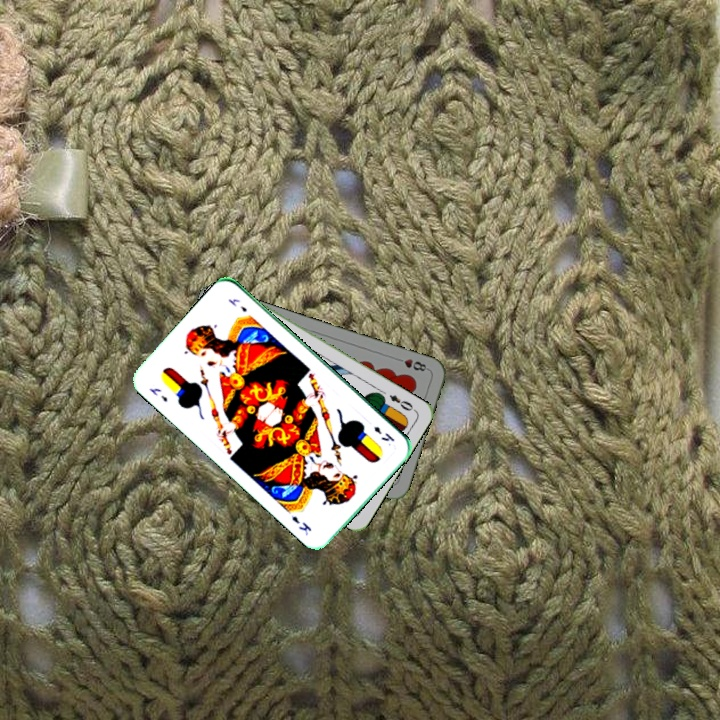EK: (370, 422, 397, 444), (145, 384, 170, 405)
EO: (385, 391, 415, 414)
H8: (392, 354, 431, 374)
